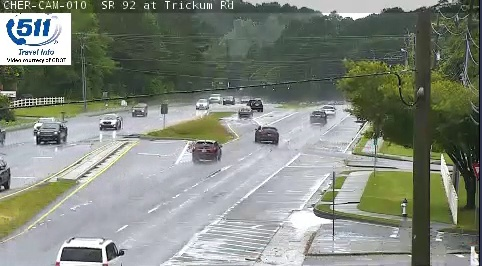car: (56, 238, 124, 266), (192, 140, 219, 160), (258, 126, 279, 142), (309, 110, 327, 124)
